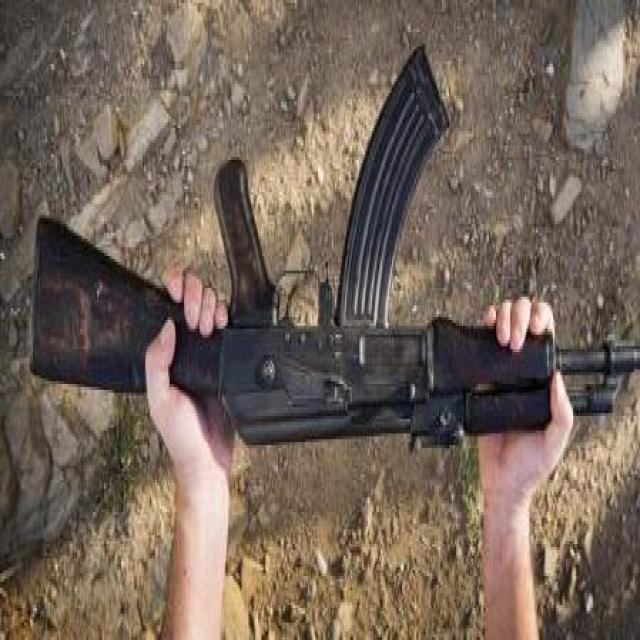weapon: (29, 48, 640, 446)
